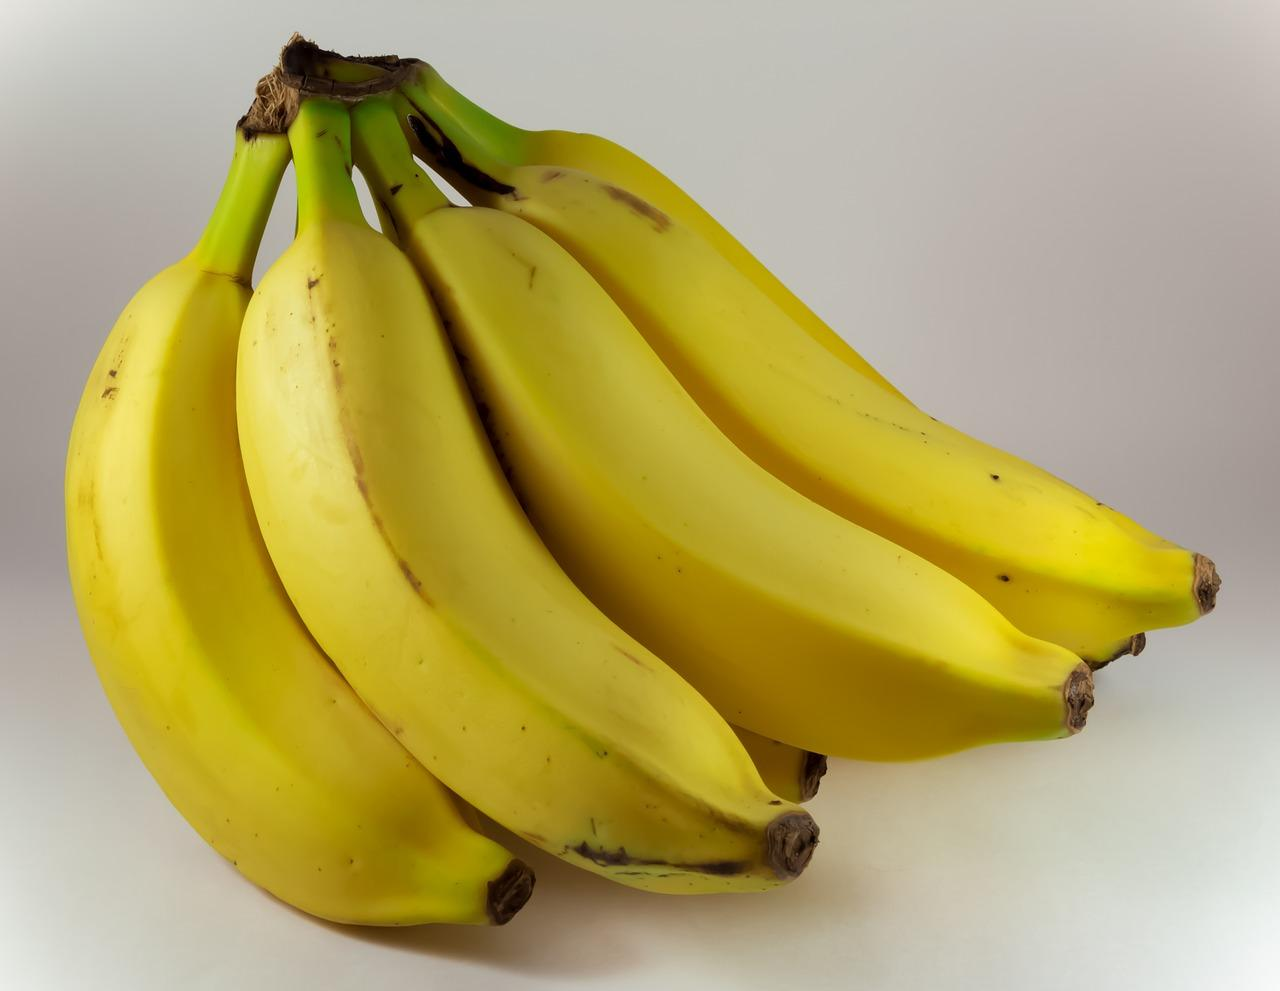banana: (48, 28, 1226, 942)
